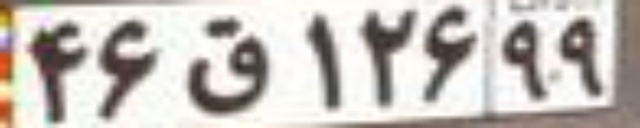1: (301, 13, 342, 110)
2: (359, 8, 413, 106)
4: (27, 20, 89, 122)
6: (94, 19, 159, 120), (421, 4, 476, 104)
9: (498, 20, 549, 101), (556, 16, 603, 96)
ghaf: (182, 18, 273, 115)
